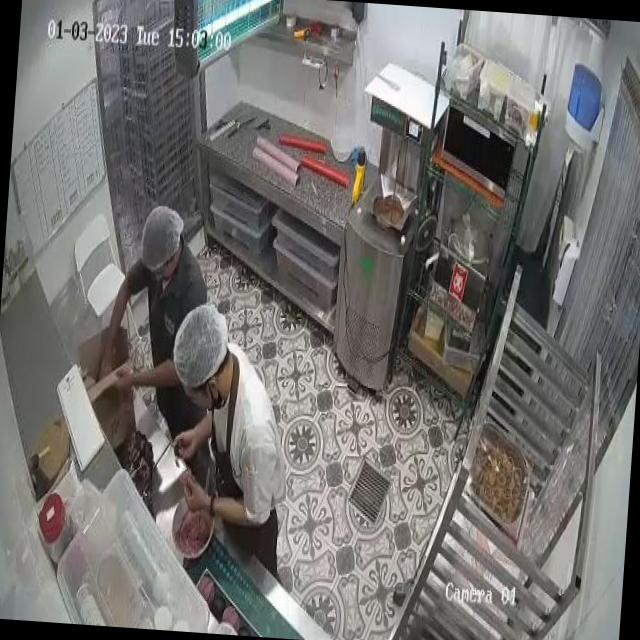hairnet: (170, 306, 226, 378), (138, 206, 178, 264)
